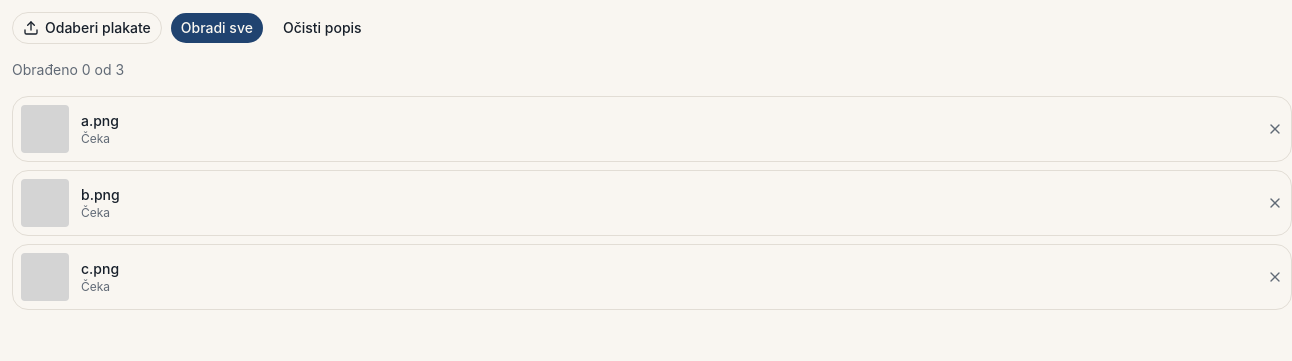
Scenario: bulk poster processing › keeps going when one poster fails, and offers to retry just that one
This screenshot has width=1292, height=361.
Earlier steps of the test are not shown.
Later steps or results of the test are not shown.
Click the button "Obradi sve".
click(217, 28)  # box left=170, top=12, right=264, bottom=44
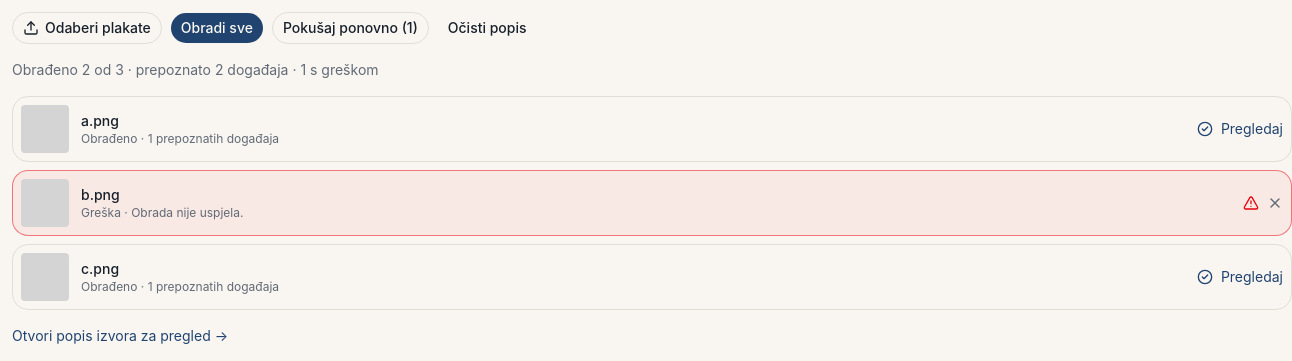
Check: the text "Greška" is shown, box left=81, top=205, right=121, bottom=220
Check: the button "Pokušaj ponovno (1)" is shown, box left=272, top=12, right=429, bottom=44
